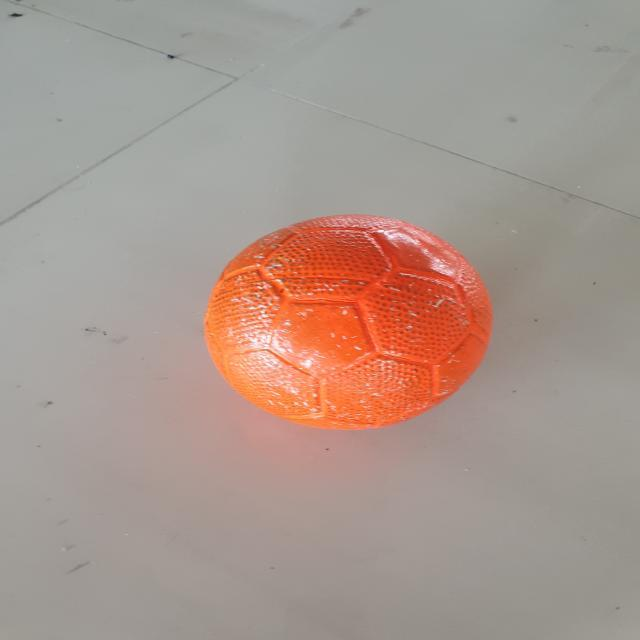bola: (208, 215, 508, 430)
